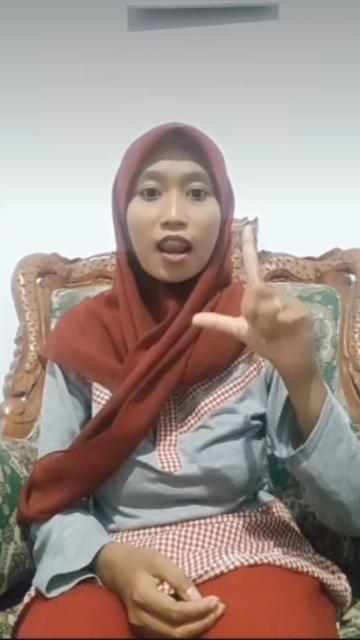L: (189, 225, 314, 368)
